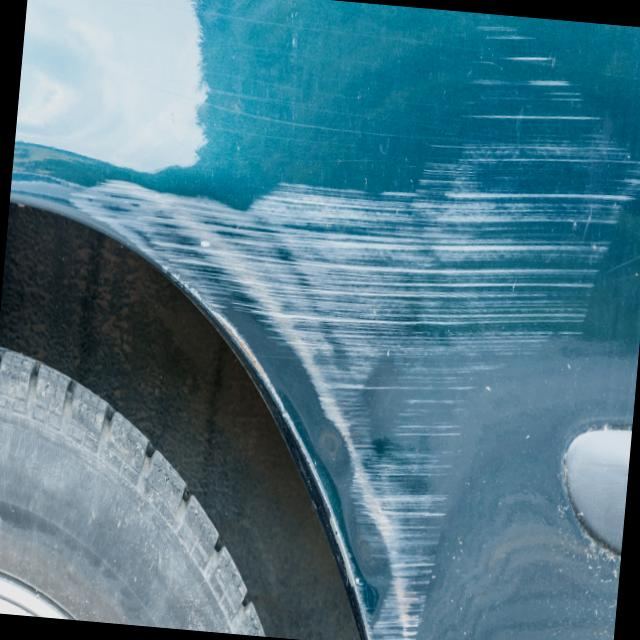Rayure: (24, 148, 603, 640)
